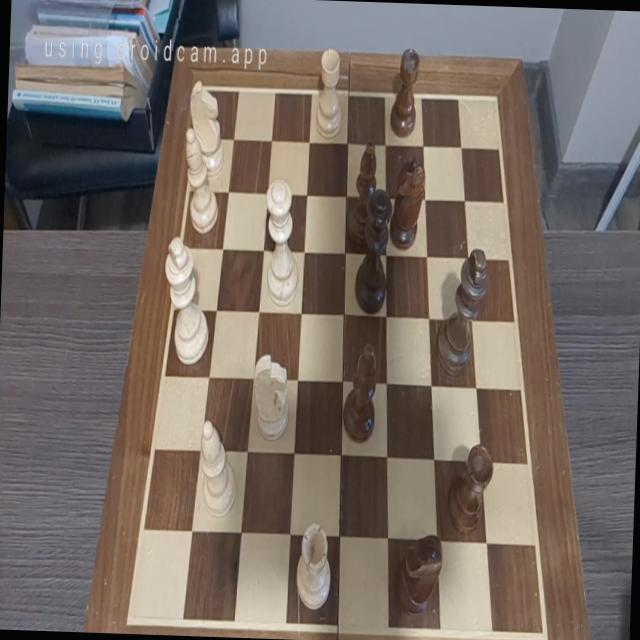black_bishop: (342, 342, 378, 442), (347, 140, 378, 247)
black_king: (434, 247, 490, 378)
black_knight: (394, 533, 444, 619), (388, 154, 425, 250)
black_queen: (354, 188, 393, 315)
black_rook: (446, 442, 494, 534), (388, 48, 419, 138)
white_bishop: (182, 128, 220, 234), (198, 419, 238, 517)
white_king: (160, 236, 212, 366)
white_knight: (186, 80, 226, 177), (252, 354, 290, 440)
white_queen: (262, 177, 301, 304)
white_rook: (294, 522, 332, 610), (314, 48, 344, 138)
